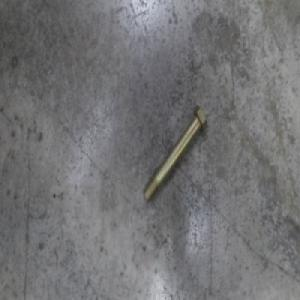Bolt: (142, 102, 207, 204)
